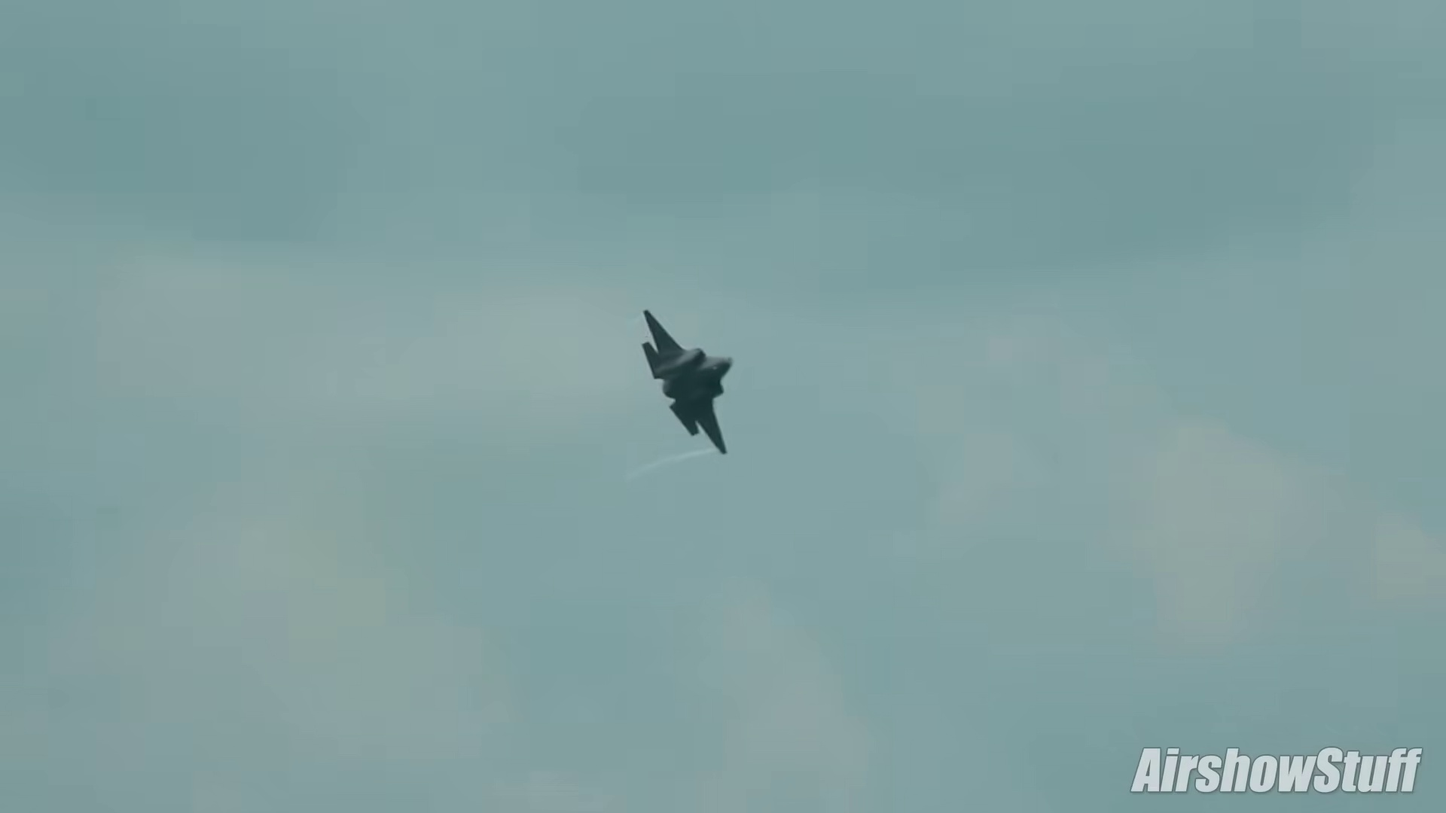F35: (635, 305, 743, 460)
